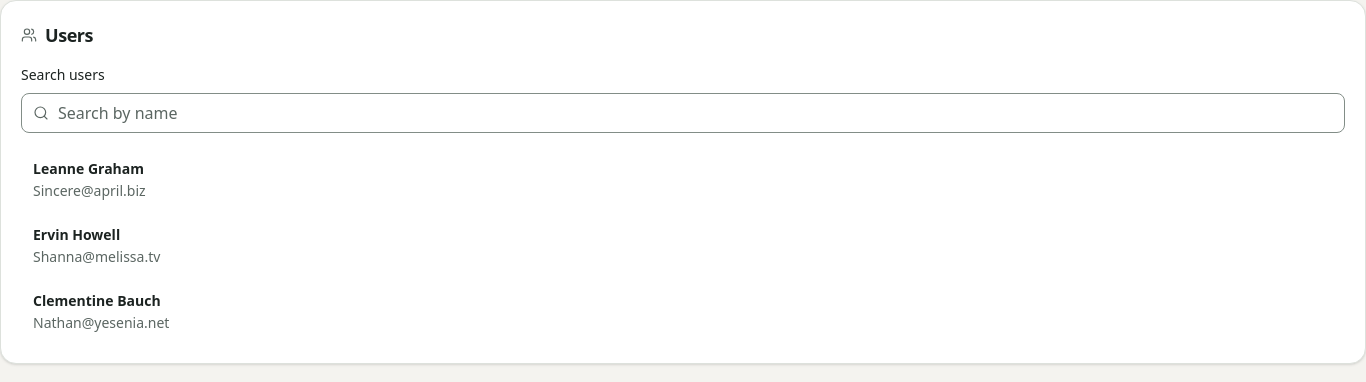
Scenario: UserDirectory › filters users by name case-insensitively
The width and height of the screenshot is (1366, 382).
Expected: the text "Leanne Graham" is shown, [33,159,146,179]
In the search field labelled "Search users": (683, 113) [21,93,1345,133], type "ERVIN"
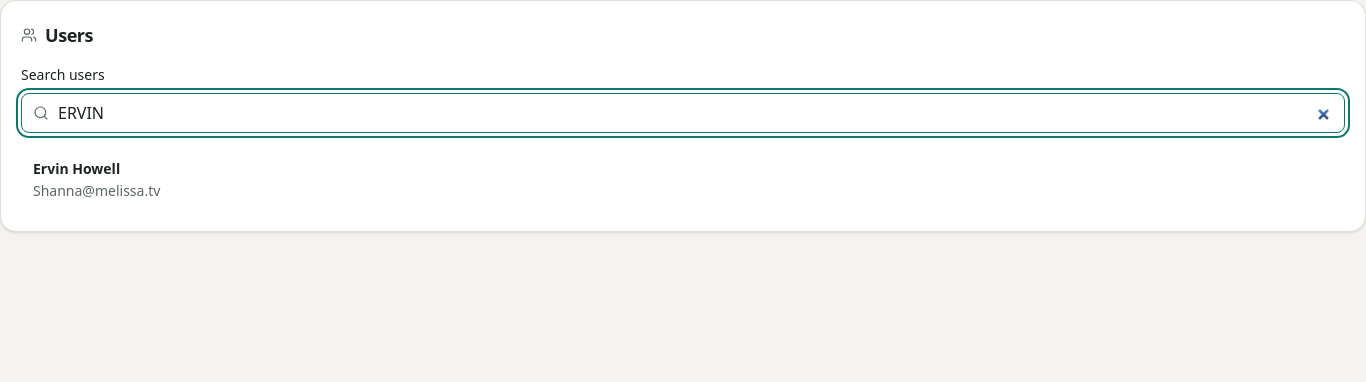
Expected: the text "Ervin Howell" is shown, [33,159,120,178]
Now the button "Leanne Graham" is gone
Now the button "Clementine Bauch" is gone
